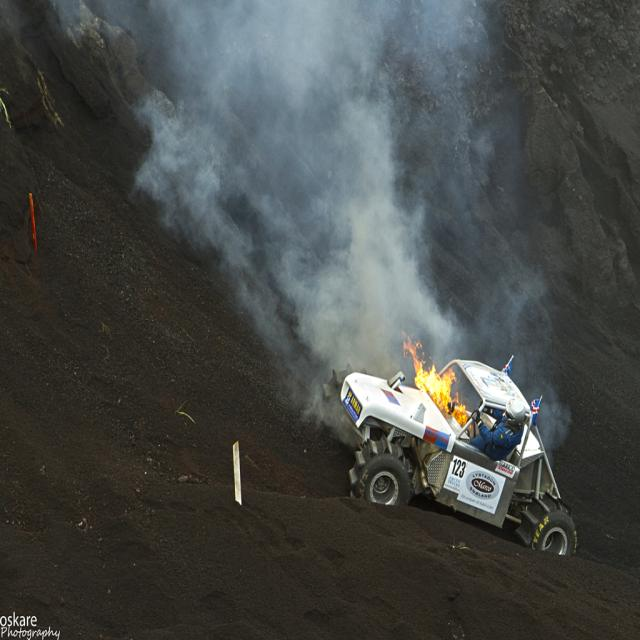car: (308, 354, 576, 559)
